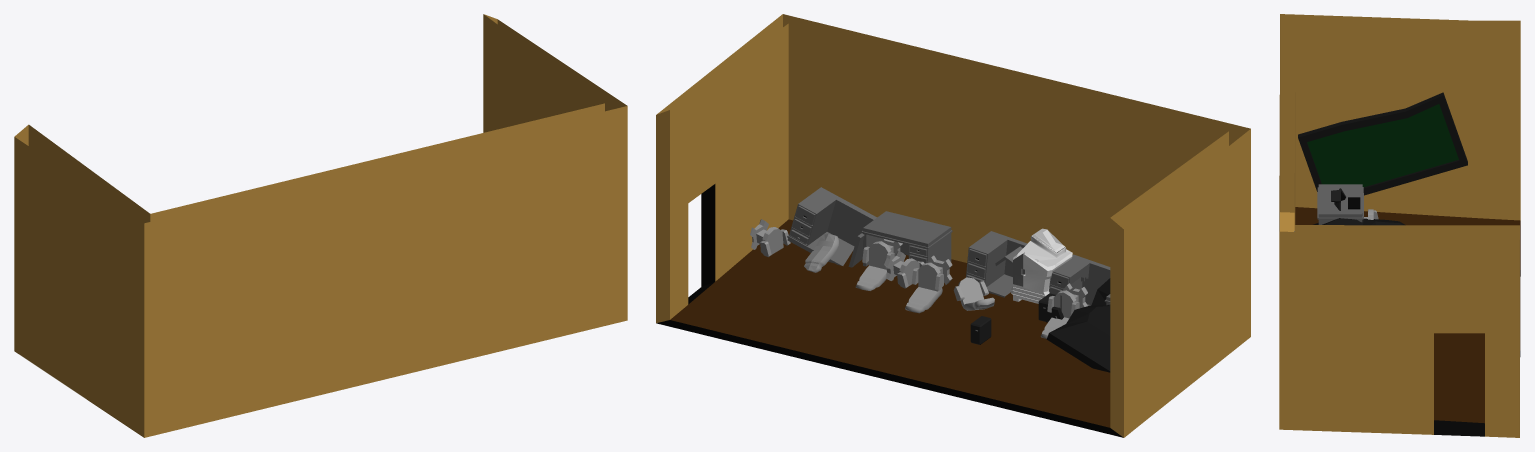
File: school2_2.FBX
The picture shows the model from 3 angles, left to right: view 1: azimuth 30°, elevation 25°; view 2: azimuth 150°, elevation 25°; view 3: azimuth 270°, elevation 25°; orthographic projection. The views are drawn at different scales.
Parts seen in each view (by area): view 1: Box002; view 2: Box002; view 3: Box002.
Boxes of the visible parts, x1,y1,x2,y2 form: Box002: (14,14,627,437); Box002: (656,14,1250,437); Box002: (1279,14,1520,437).
Bounding box in the file's own units: 1044 × 461 × 489.
